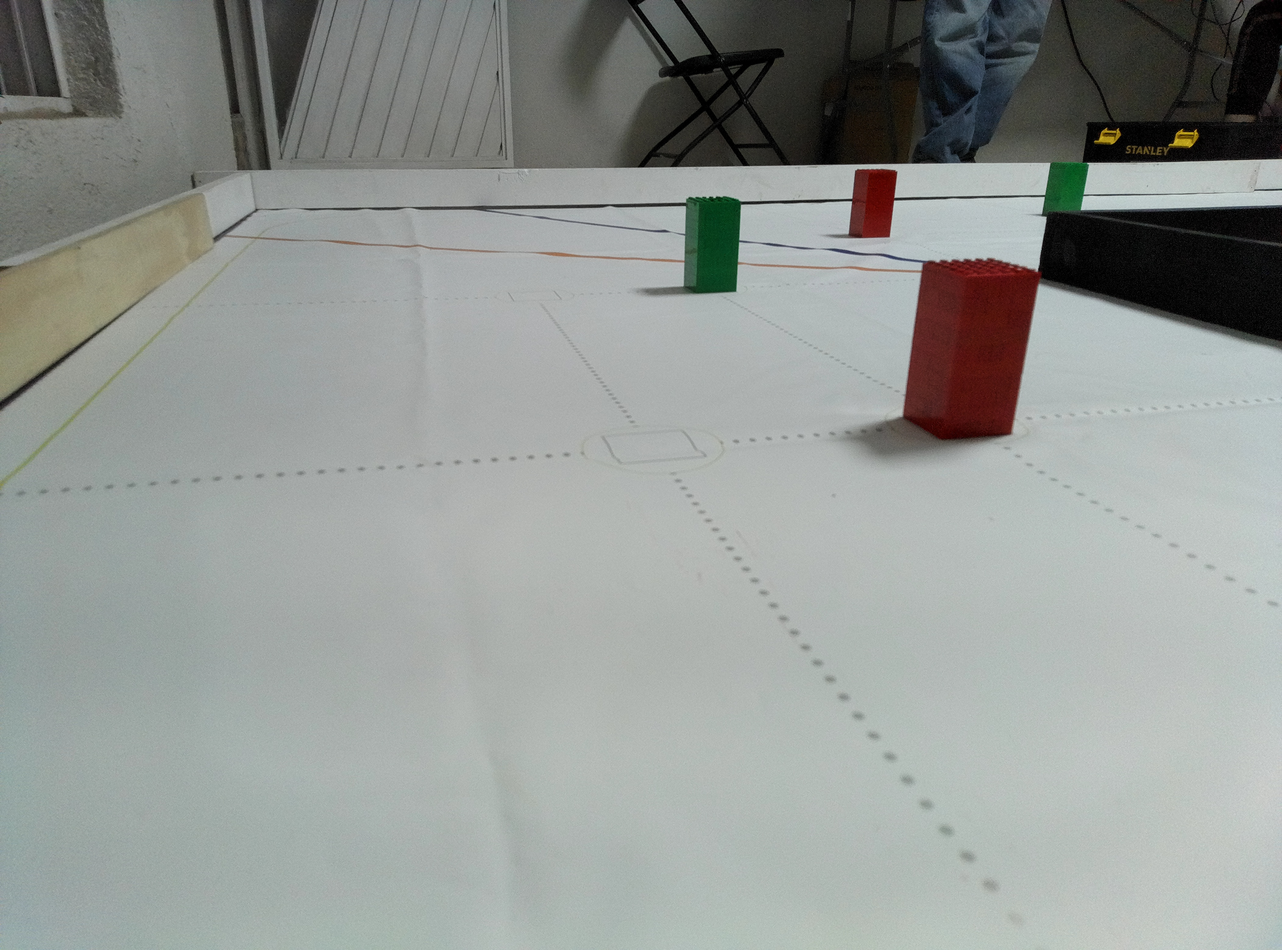greenbox: (682, 195, 742, 295), (1041, 161, 1091, 217)
redbox: (899, 259, 1043, 444), (847, 167, 899, 239)
